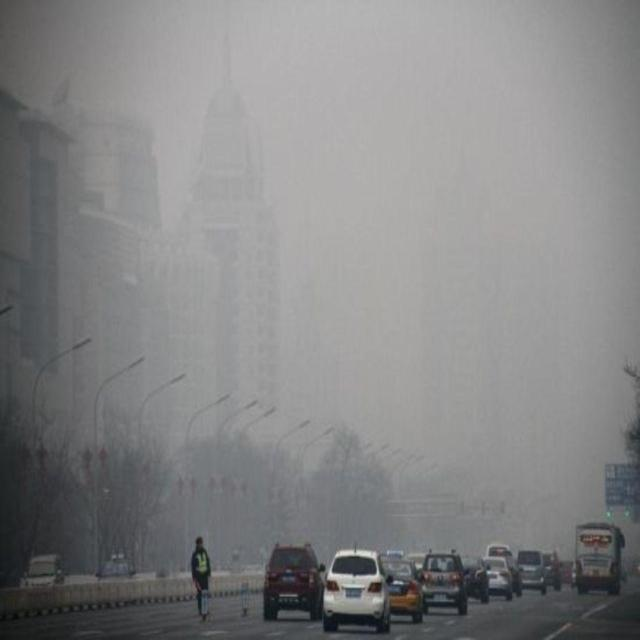Bus: (575, 520, 626, 595)
Car: (323, 549, 392, 632), (262, 538, 324, 622), (377, 553, 426, 624), (419, 548, 469, 614), (460, 554, 490, 603), (20, 554, 63, 586), (484, 556, 514, 601)
